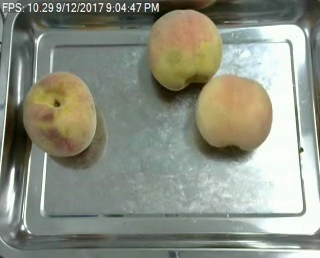Peach: (22, 69, 98, 156), (195, 73, 271, 152), (149, 8, 222, 90)
